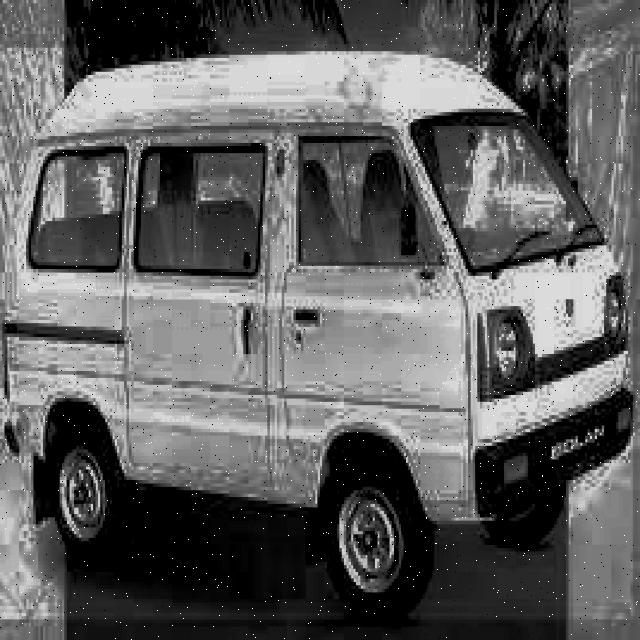LCV: (0, 48, 635, 623)
